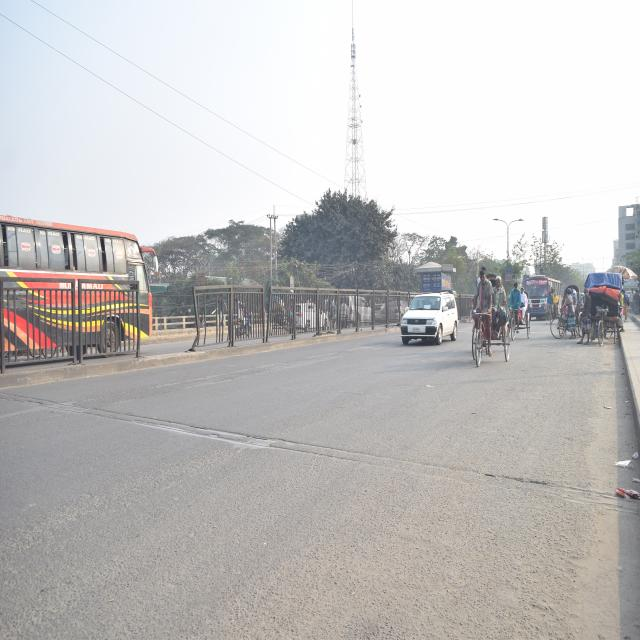bus: (0, 208, 160, 367), (525, 274, 561, 326)
car: (402, 286, 459, 355)
